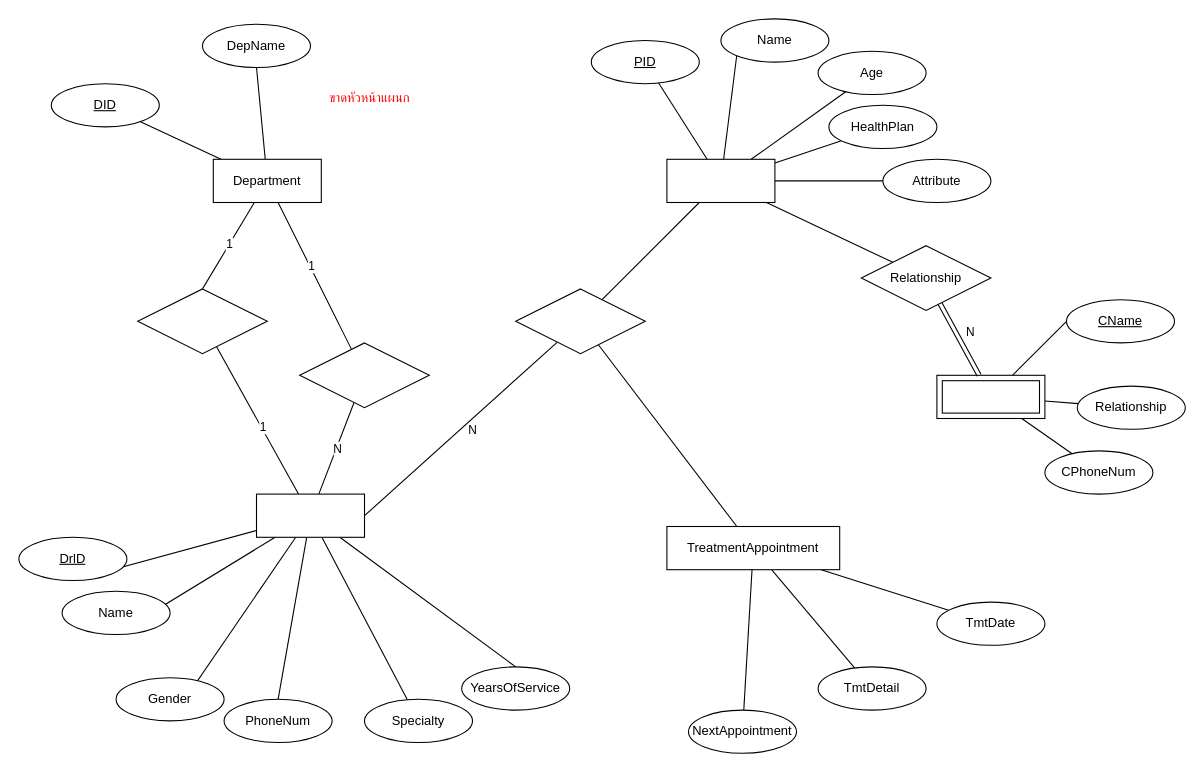
Some shapes in this 1204 by 772 pixel diagram are drawn without their labels. The shapes that lost their labels are listed below. From the top down, each one's centre as x and y in pixels, then its label:
At (x=720, y=180): "Patient".
At (x=202, y=321): "managed by".
At (x=580, y=321): "treated by".
At (x=364, y=375): "has employee".
At (x=990, y=396): "ContactPerson".
At (x=309, y=515): "Physician".
